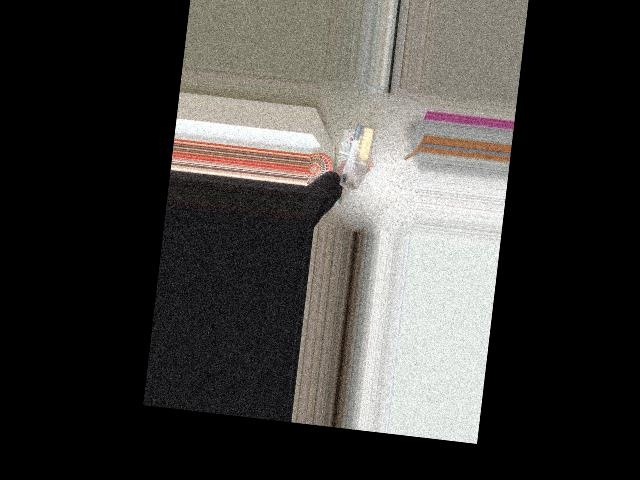cheese: (339, 122, 376, 189)
